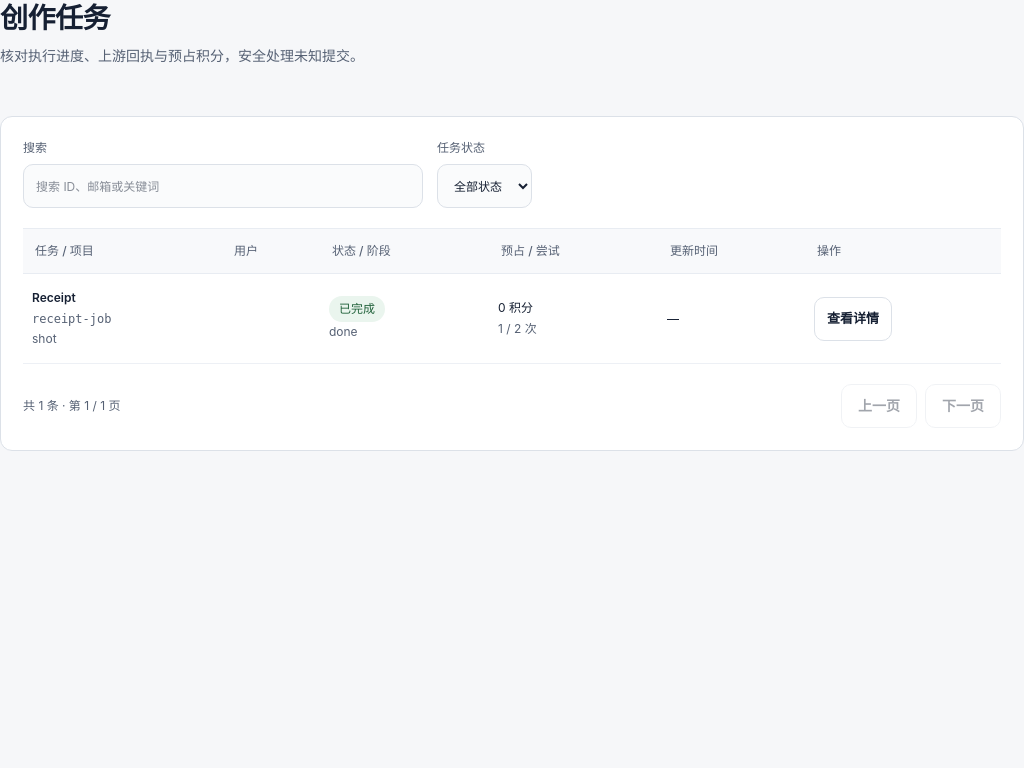
it: pending generation receipt means awaiting settlement, never awaiting payment
What coordinates should you click on to do the following:
click the button with aria-label "查看任务 receipt-job"
I would click on:
 (853, 319)
Its box is 814,297 -> 892,341.
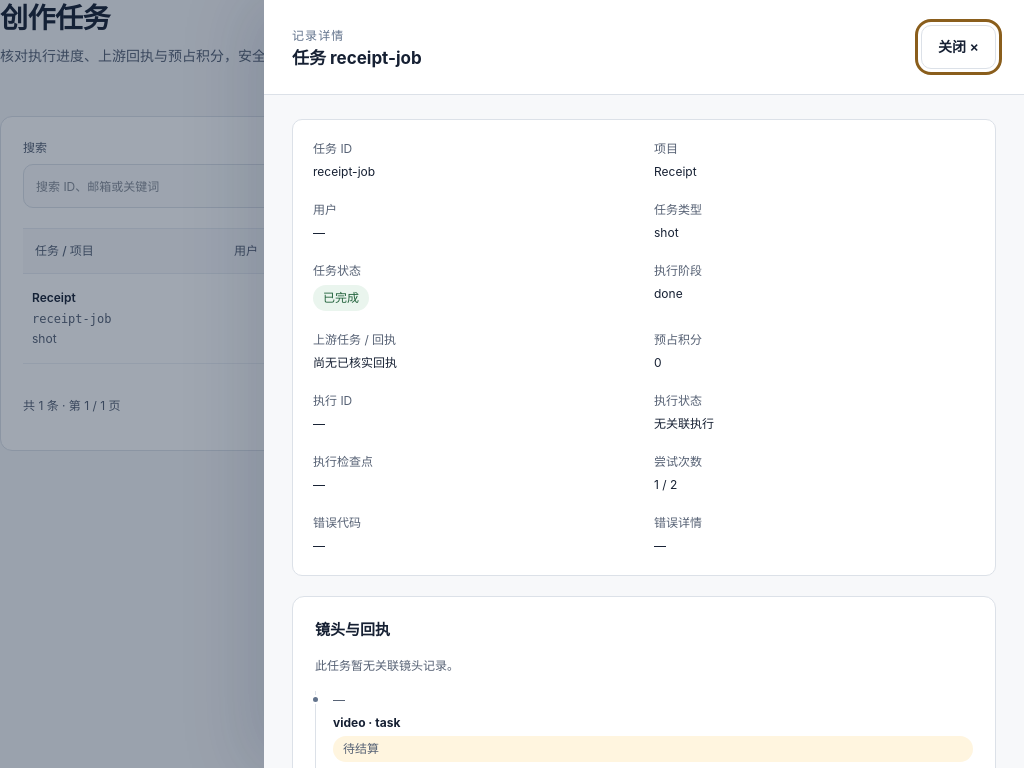
Check: the text "待结算" is shown, box 333,736 -> 973,762
